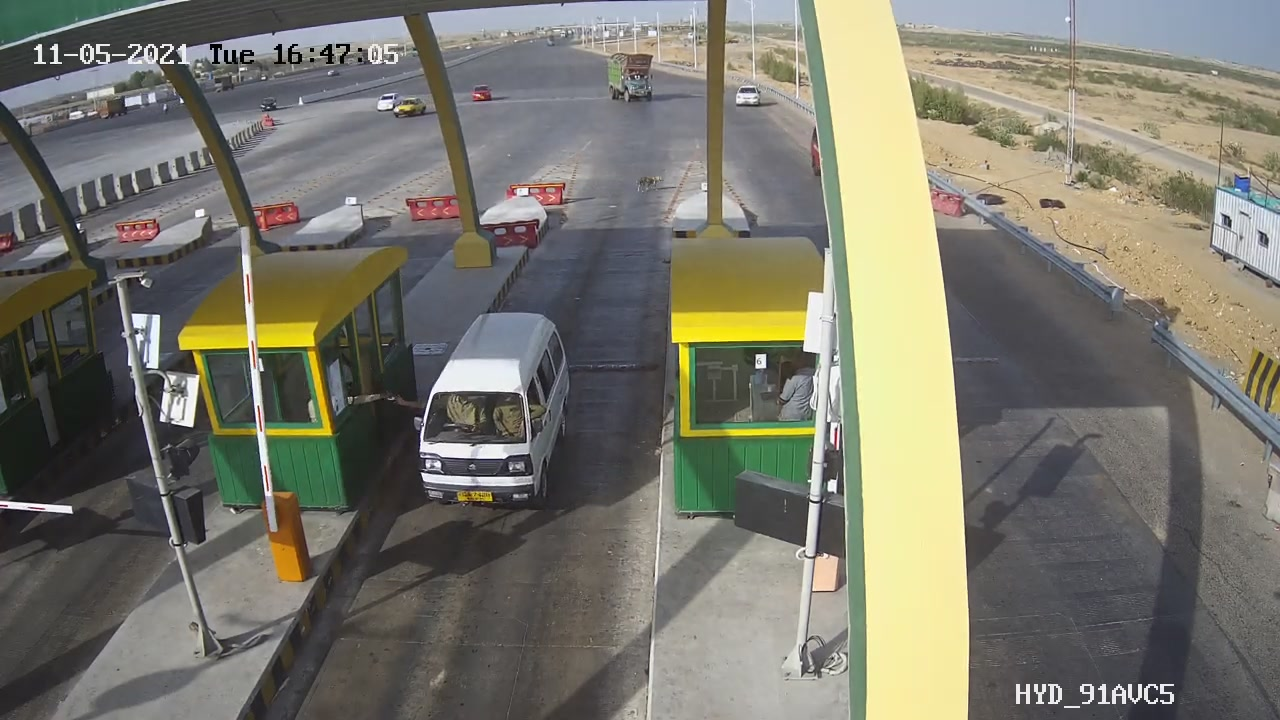F1: (398, 294, 601, 533)
